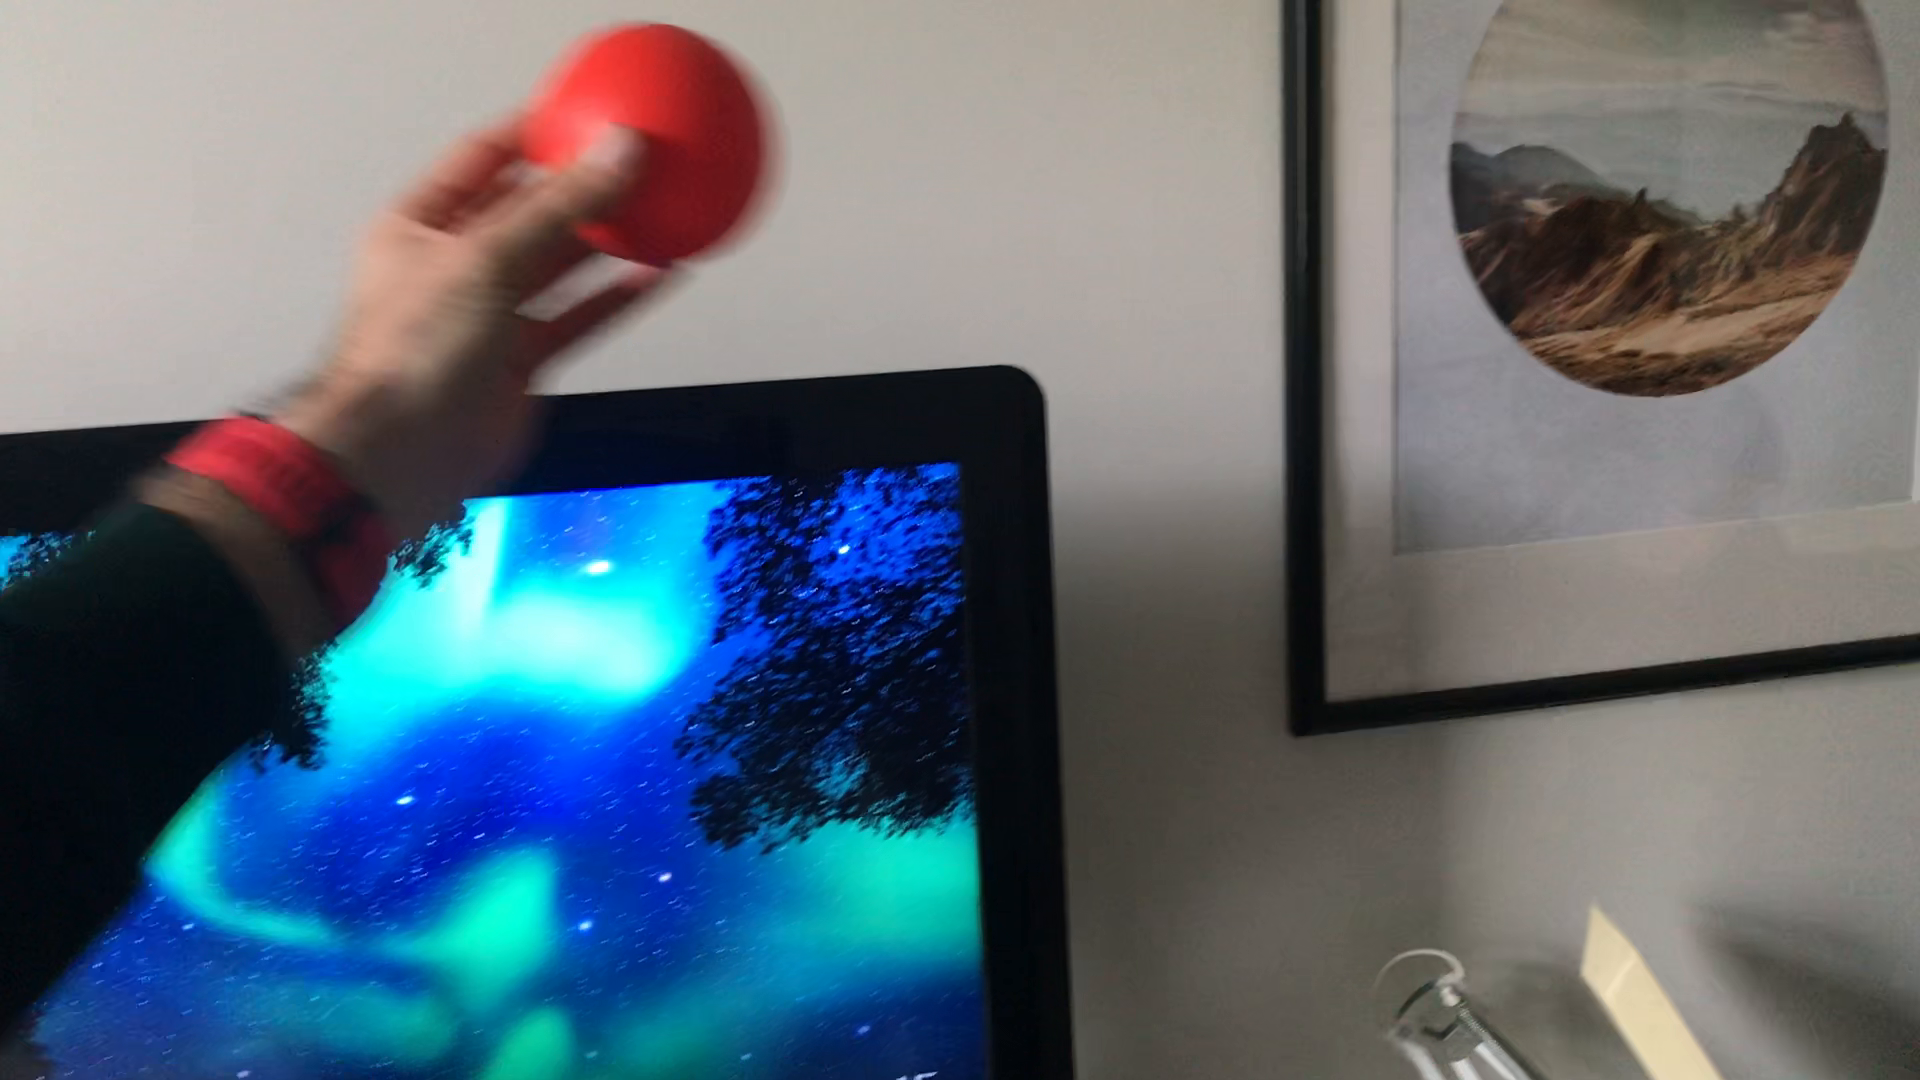Ball: (527, 22, 761, 266)
